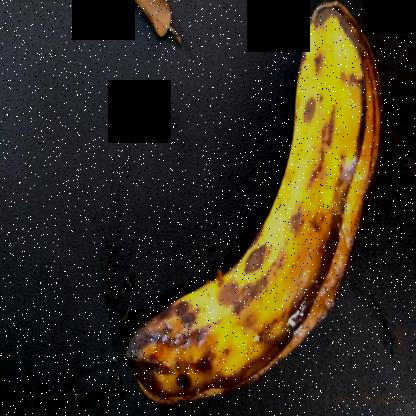rotten: (115, 5, 390, 415)
